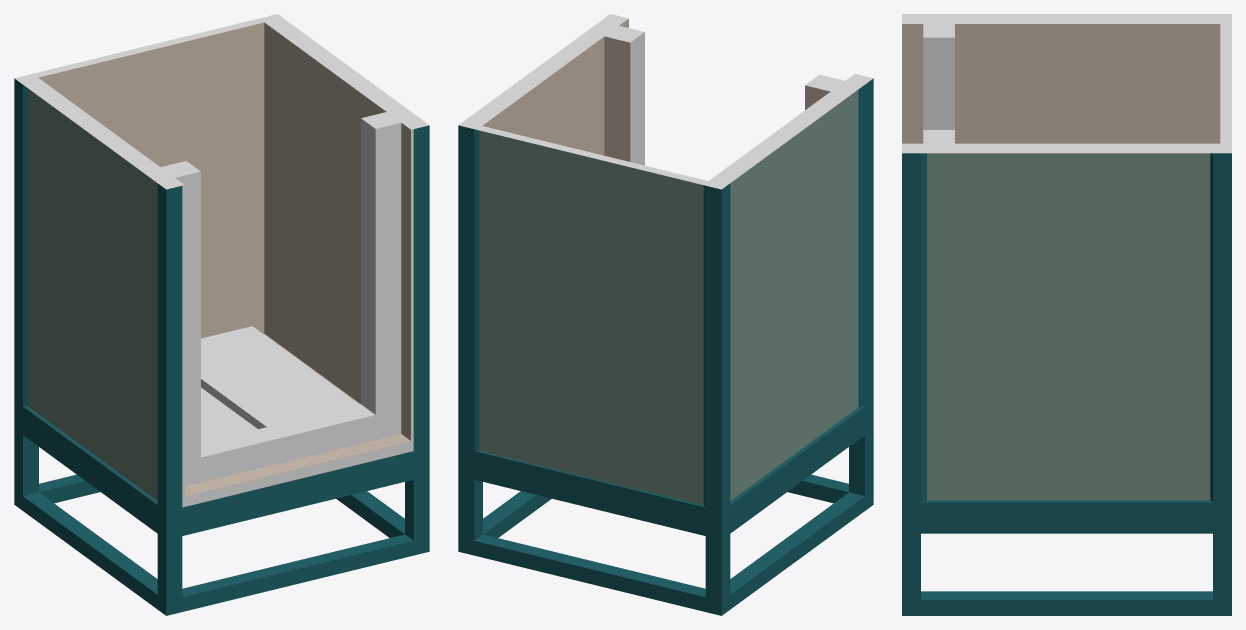
File: Gas Kiln.fbx
The picture shows the model from 3 angles, left to right: view 1: azimuth 30°, elevation 25°; view 2: azimuth 150°, elevation 25°; view 3: azimuth 270°, elevation 25°; orthographic projection. The views are drawn at different scales.
Parts seen in each view (by area): view 1: Kiln, Shelf.001, Shelf; view 2: Kiln; view 3: Kiln.
Boxes of the visible parts, bbox=[...] form: Kiln: bbox=[14, 14, 429, 615]; Shelf.001: bbox=[201, 326, 359, 429]; Shelf: bbox=[201, 387, 257, 442]; Kiln: bbox=[458, 14, 873, 615]; Kiln: bbox=[902, 14, 1231, 615].
Bounding box in the file's own units: 336 × 520 × 336.
